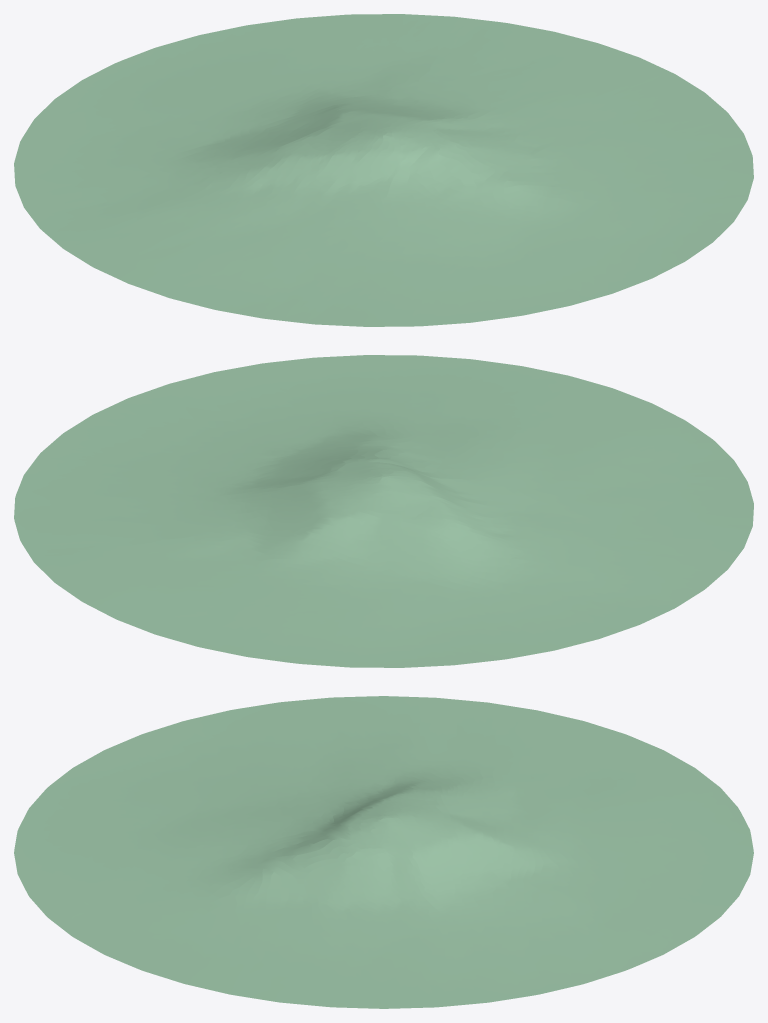
Rendered from island_coral_small_C.fbx.
3 renders of one model, top to bottom at view 1: azimuth 30°, elevation 25°; view 2: azimuth 150°, elevation 25°; view 3: azimuth 270°, elevation 25°, orthographic.
Visible parts, largest first — view 1: island_coral_small_C; view 2: island_coral_small_C; view 3: island_coral_small_C.
Part boxes in pixels (left/top/right/bottom): island_coral_small_C: left=14, top=14, right=753, bottom=326; island_coral_small_C: left=14, top=355, right=753, bottom=667; island_coral_small_C: left=14, top=696, right=753, bottom=1008.
Bounding box in the file's own units: 6062 × 317 × 6062.
